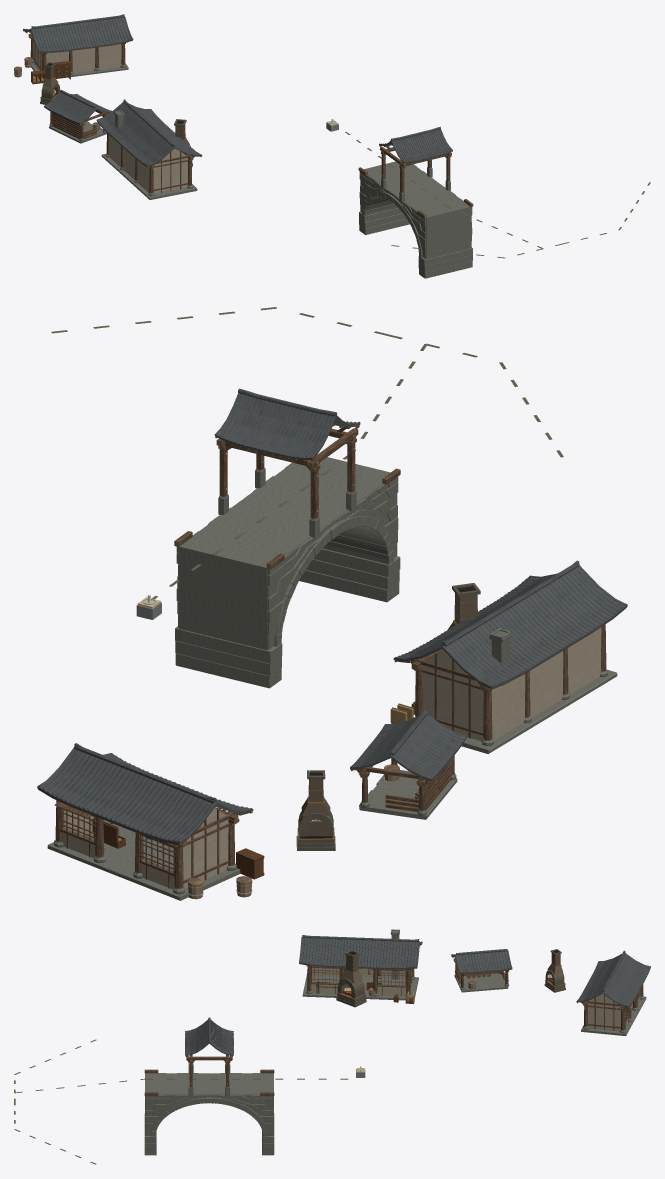
The model's file is workshop.glb.
The picture shows the model from 3 angles, top to bottom: view 1: azimuth 30°, elevation 25°; view 2: azimuth 150°, elevation 25°; view 3: azimuth 270°, elevation 25°; orthographic projection. The views are drawn at different scales.
Parts seen in each view (by area): view 1: 依山工造 · 实景构件/工坊栈桥 · 石券桥楼/CH2_GorgeBridge/GorgeBridge_LOD0 / A, 03 · 失衡工坊战区 ±0 m/F1 · 锻造房/CliffForge/CliffForge/CliffForge_L (×4), 03 · 失衡工坊战区 ±0 m/F3 · 修械房/RepairHall/RepairHall/RepairHall_L (×3), 依山工造 · 实景构件/工坊栈桥 · 石券桥楼/CH2_GorgeBridge/GorgeBridge_LOD0 / T (×2), 03 · 失衡工坊战区 ±0 m/F2 · 炭棚/CharcoalShed/CharcoalShed/CharcoalS (×2); view 2: 依山工造 · 实景构件/工坊栈桥 · 石券桥楼/CH2_GorgeBridge/GorgeBridge_LOD0 / A, 03 · 失衡工坊战区 ±0 m/F1 · 锻造房/CliffForge/CliffForge/CliffForge_L (×4), 03 · 失衡工坊战区 ±0 m/F3 · 修械房/RepairHall/RepairHall/RepairHall_L (×4), 依山工造 · 实景构件/工坊栈桥 · 石券桥楼/CH2_GorgeBridge/GorgeBridge_LOD0 / T (×2), 03 · 失衡工坊战区 ±0 m/F2 · 炭棚/CharcoalShed/CharcoalShed/CharcoalS (×3), 中层 A1 · 工坊桥口定稿/修械小炉 · 拱膛与风道/WorkshopHearth/WorkshopHearth_LO (×2), 中层 A1 · 工坊桥口定稿/铜边嵌尺 · 中控至工坊/WorkshopSurvey_LOD0 / SurveyInla; view 3: 03 · 失衡工坊战区 ±0 m/F1 · 锻造房/CliffForge/CliffForge/CliffForge_L (×4), 依山工造 · 实景构件/工坊栈桥 · 石券桥楼/CH2_GorgeBridge/GorgeBridge_LOD0 / A, 03 · 失衡工坊战区 ±0 m/F3 · 修械房/RepairHall/RepairHall/RepairHall_L (×4), 03 · 失衡工坊战区 ±0 m/F2 · 炭棚/CharcoalShed/CharcoalShed/CharcoalS (×3), 依山工造 · 实景构件/工坊栈桥 · 石券桥楼/CH2_GorgeBridge/GorgeBridge_LOD0 / T (×2), 中层 A1 · 工坊桥口定稿/锻造房正炉 · 拱膛与风道/WorkshopHearth/WorkshopHearth_L (×2), 中层 A1 · 工坊桥口定稿/铜边嵌尺 · 中控至工坊/WorkshopSurvey_LOD0 / SurveyInla.
Part boxes in pixels (bbox=[...]): 依山工造 · 实景构件/工坊栈桥 · 石券桥楼/CH2_GorgeBridge/GorgeBridge_LOD0 / A: bbox=[359, 161, 472, 278]; 03 · 失衡工坊战区 ±0 m/F1 · 锻造房/CliffForge/CliffForge/CliffForge_L (×4): bbox=[96, 99, 202, 199]; 03 · 失衡工坊战区 ±0 m/F3 · 修械房/RepairHall/RepairHall/RepairHall_L (×3): bbox=[23, 14, 133, 72]; 依山工造 · 实景构件/工坊栈桥 · 石券桥楼/CH2_GorgeBridge/GorgeBridge_LOD0 / T (×2): bbox=[358, 126, 472, 217]; 03 · 失衡工坊战区 ±0 m/F2 · 炭棚/CharcoalShed/CharcoalShed/CharcoalS (×2): bbox=[44, 90, 112, 139]; 依山工造 · 实景构件/工坊栈桥 · 石券桥楼/CH2_GorgeBridge/GorgeBridge_LOD0 / A: bbox=[175, 457, 400, 688]; 03 · 失衡工坊战区 ±0 m/F1 · 锻造房/CliffForge/CliffForge/CliffForge_L (×4): bbox=[393, 560, 627, 753]; 03 · 失衡工坊战区 ±0 m/F3 · 修械房/RepairHall/RepairHall/RepairHall_L (×4): bbox=[37, 743, 253, 900]; 依山工造 · 实景构件/工坊栈桥 · 石券桥楼/CH2_GorgeBridge/GorgeBridge_LOD0 / T (×2): bbox=[174, 388, 400, 569]; 03 · 失衡工坊战区 ±0 m/F2 · 炭棚/CharcoalShed/CharcoalShed/CharcoalS (×3): bbox=[350, 710, 466, 819]; 中层 A1 · 工坊桥口定稿/修械小炉 · 拱膛与风道/WorkshopHearth/WorkshopHearth_LO (×2): bbox=[296, 770, 335, 850]; 中层 A1 · 工坊桥口定稿/铜边嵌尺 · 中控至工坊/WorkshopSurvey_LOD0 / SurveyInla: bbox=[51, 307, 563, 599]; 03 · 失衡工坊战区 ±0 m/F1 · 锻造房/CliffForge/CliffForge/CliffForge_L (×4): bbox=[299, 929, 422, 1000]; 依山工造 · 实景构件/工坊栈桥 · 石券桥楼/CH2_GorgeBridge/GorgeBridge_LOD0 / A: bbox=[144, 1063, 274, 1155]; 03 · 失衡工坊战区 ±0 m/F3 · 修械房/RepairHall/RepairHall/RepairHall_L (×4): bbox=[576, 950, 650, 1035]; 03 · 失衡工坊战区 ±0 m/F2 · 炭棚/CharcoalShed/CharcoalShed/CharcoalS (×3): bbox=[451, 949, 512, 992]; 依山工造 · 实景构件/工坊栈桥 · 石券桥楼/CH2_GorgeBridge/GorgeBridge_LOD0 / T (×2): bbox=[144, 1017, 274, 1095]; 中层 A1 · 工坊桥口定稿/锻造房正炉 · 拱膛与风道/WorkshopHearth/WorkshopHearth_L (×2): bbox=[336, 950, 366, 1007]; 中层 A1 · 工坊桥口定稿/铜边嵌尺 · 中控至工坊/WorkshopSurvey_LOD0 / SurveyInla: bbox=[14, 1039, 348, 1164].
Size of the model in its own units: 42.12 by 11.78 by 58.92.
21 materials, 14 textured.
